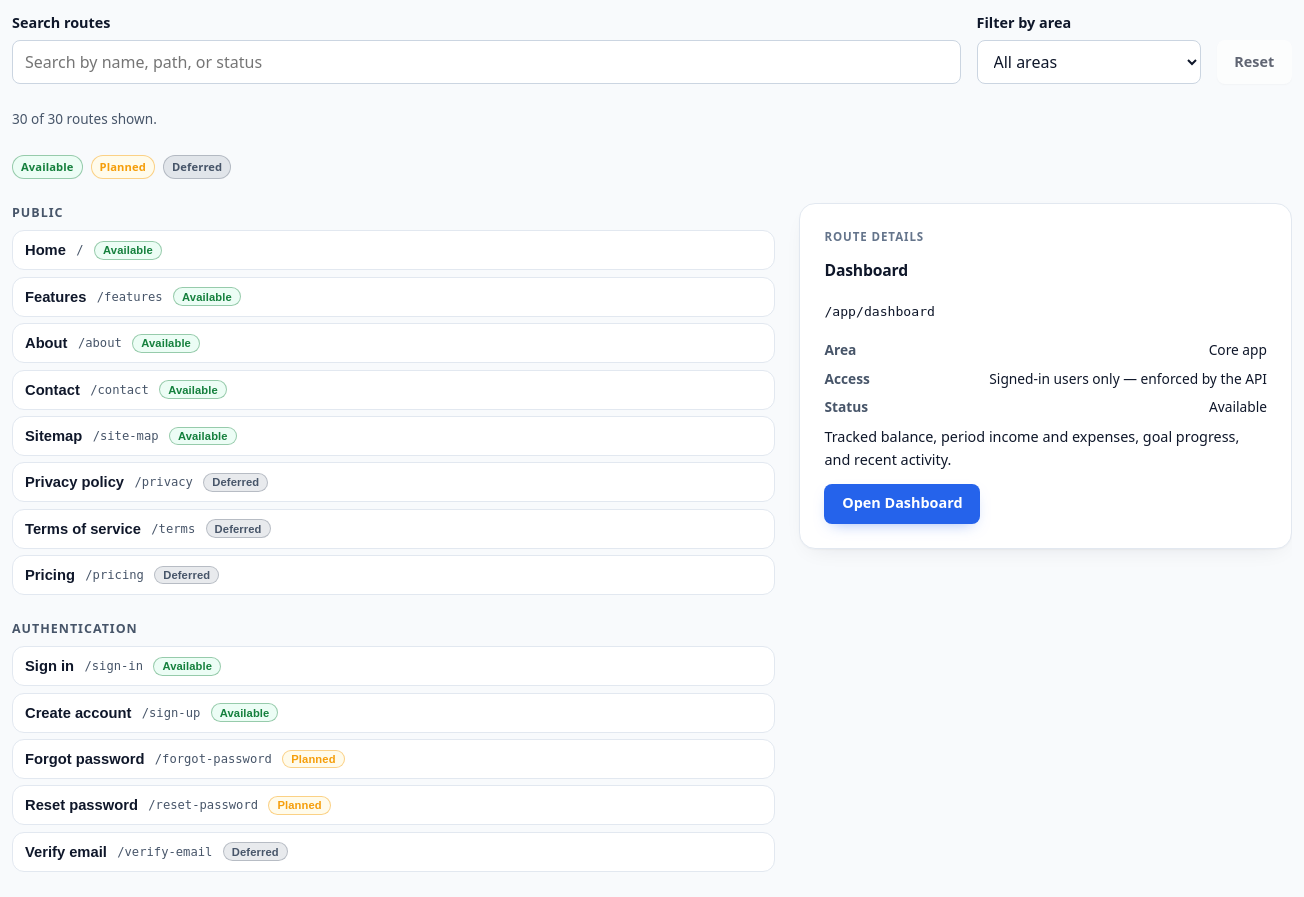
Scenario: sitemap view › explains a deferred route and offers no link to it
Click the button "Privacy policy /privacy Deferred" at (74, 482), box [12, 462, 775, 502]
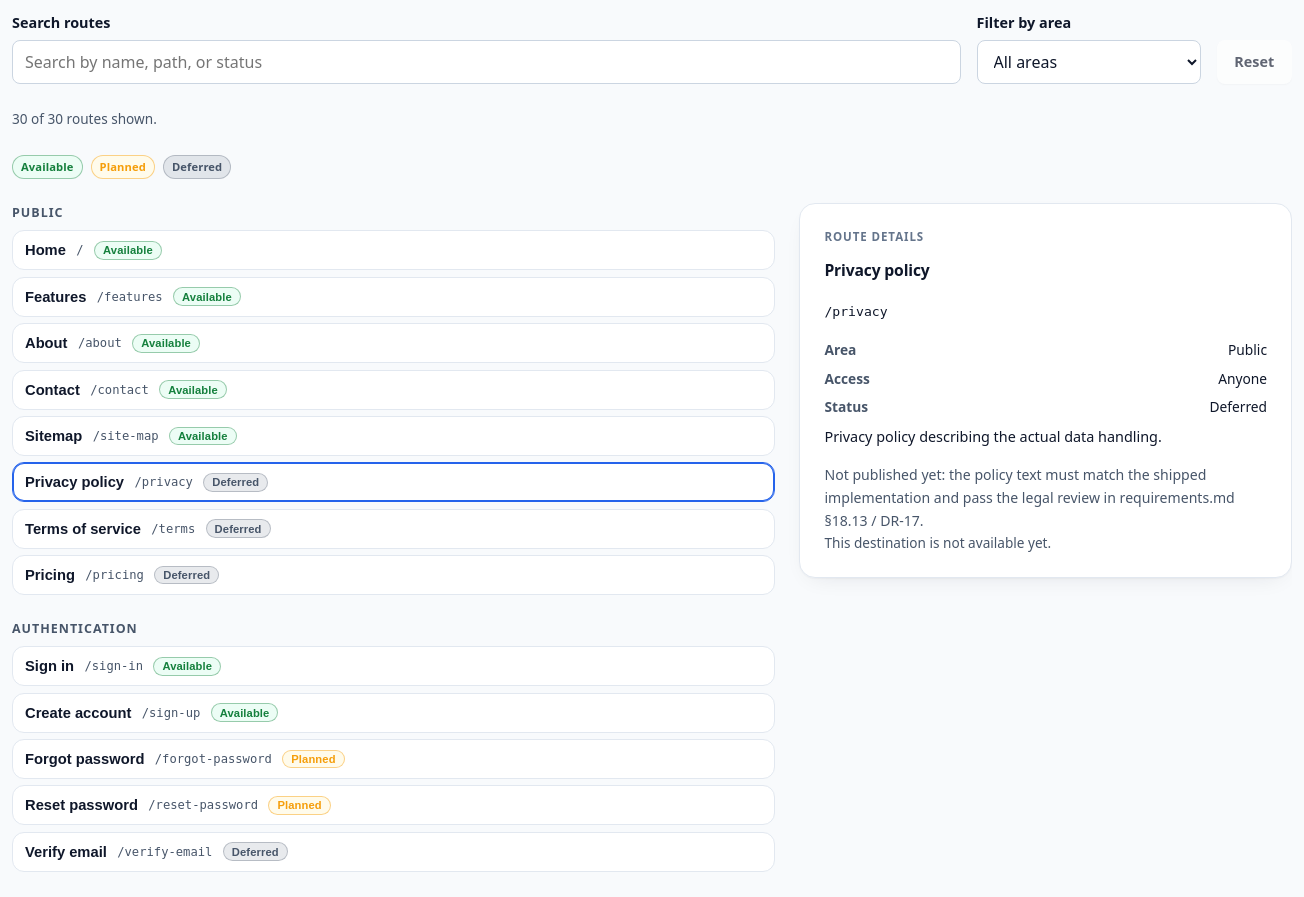
Expected: the text "legal review" is shown, [824, 466, 1235, 530]
Expected: the link "Open Dashboard" is gone
Expected: the text "This destination is not available yet." is shown, [824, 533, 1051, 552]
